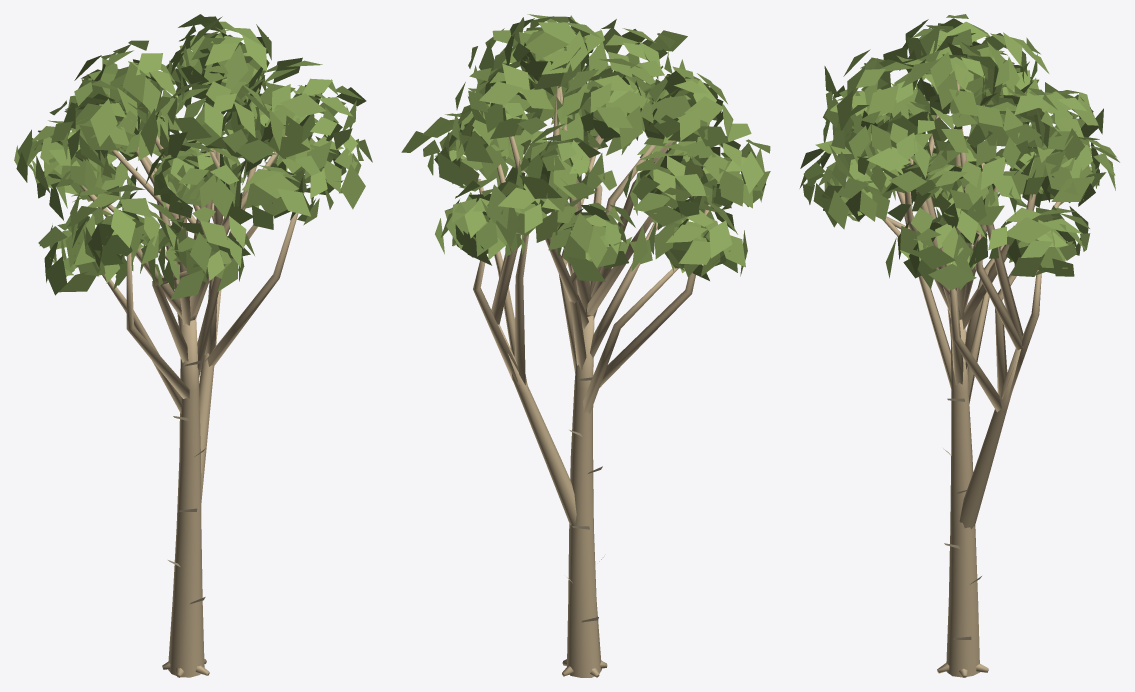
File: birch-twin.glb
The picture shows the model from 3 angles, left to right: view 1: azimuth 30°, elevation 25°; view 2: azimuth 150°, elevation 25°; view 3: azimuth 270°, elevation 25°; orthographic projection.
Parts seen in each view (by area): view 1: tree_birch-twin_LOD0; view 2: tree_birch-twin_LOD0; view 3: tree_birch-twin_LOD0.
Part boxes in pixels (bbox=[...]): tree_birch-twin_LOD0: bbox=[14, 14, 372, 677]; tree_birch-twin_LOD0: bbox=[401, 14, 770, 677]; tree_birch-twin_LOD0: bbox=[799, 14, 1119, 677].
Size of the model in its own units: 6.46 by 11.95 by 5.46.
